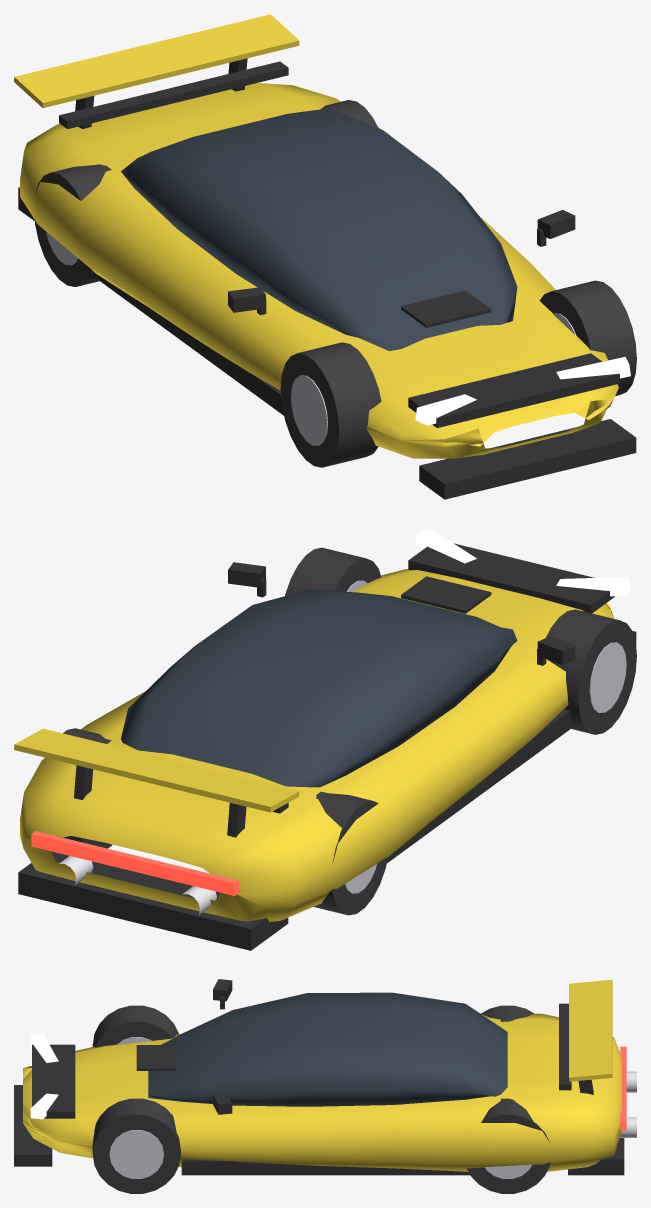
Rendered from mashin_supercar.glb.
3 renders of one model, top to bottom at view 1: azimuth 30°, elevation 25°; view 2: azimuth 150°, elevation 25°; view 3: azimuth 270°, elevation 25°, orthographic. The views are drawn at different scales.
Visible parts, largest first — view 1: badane, kabin, tirkeshi, charkh_jelo_rast_tir, charkh_jelo_chap_tir, charkh_paeen_rast_tir, charkh_jelo_rast_ring, cheragh_jelo; view 2: badane, kabin, tirkeshi, charkh_jelo_rast_tir, cheragh_aqab, charkh_jelo_chap_tir, charkh_paeen_rast_tir, charkh_jelo_rast_ring, cheragh_jelo, egzoz, charkh_paeen_chap_tir; view 3: badane, kabin, tirkeshi, charkh_jelo_chap_tir, charkh_jelo_rast_tir, charkh_paeen_chap_tir, charkh_jelo_chap_ring, cheragh_jelo, charkh_paeen_rast_tir, cheragh_aqab, egzoz, charkh_paeen_chap_ring.
Part boxes in pixels (x1=…): badane: x1=20, y1=83, x2=618, y2=458; kabin: x1=121, y1=108, x2=517, y2=351; tirkeshi: x1=14, y1=14, x2=636, y2=499; charkh_jelo_rast_tir: x1=280, y1=342, x2=381, y2=467; charkh_jelo_chap_tir: x1=539, y1=280, x2=636, y2=396; charkh_paeen_rast_tir: x1=34, y1=164, x2=111, y2=286; charkh_jelo_rast_ring: x1=291, y1=375, x2=327, y2=445; cheragh_jelo: x1=415, y1=356, x2=630, y2=425; badane: x1=20, y1=569, x2=614, y2=921; kabin: x1=121, y1=589, x2=517, y2=787; tirkeshi: x1=14, y1=543, x2=636, y2=950; charkh_jelo_rast_tir: x1=546, y1=609, x2=636, y2=734; cheragh_aqab: x1=31, y1=831, x2=238, y2=895; charkh_jelo_chap_tir: x1=285, y1=547, x2=381, y2=595; charkh_paeen_rast_tir: x1=313, y1=791, x2=387, y2=915; charkh_jelo_rast_ring: x1=589, y1=642, x2=626, y2=712; cheragh_jelo: x1=415, y1=528, x2=630, y2=596; egzoz: x1=58, y1=856, x2=216, y2=916; charkh_paeen_chap_tir: x1=63, y1=728, x2=112, y2=848; badane: x1=23, y1=1013, x2=621, y2=1171; kabin: x1=148, y1=992, x2=507, y2=1106; tirkeshi: x1=14, y1=979, x2=624, y2=1175; charkh_jelo_chap_tir: x1=92, y1=1098, x2=180, y2=1193; charkh_jelo_rast_tir: x1=92, y1=1005, x2=178, y2=1047; charkh_paeen_chap_tir: x1=467, y1=1098, x2=550, y2=1193; charkh_jelo_chap_ring: x1=109, y1=1130, x2=163, y2=1178; cheragh_jelo: x1=30, y1=1033, x2=58, y2=1119; charkh_paeen_rast_tir: x1=481, y1=1005, x2=533, y2=1021; cheragh_aqab: x1=620, y1=1046, x2=626, y2=1130; egzoz: x1=620, y1=1071, x2=636, y2=1137; charkh_paeen_chap_ring: x1=485, y1=1164, x2=531, y2=1178.
Size of what is drawn, in the model's own units: 2.32 by 0.9965 by 4.87.
